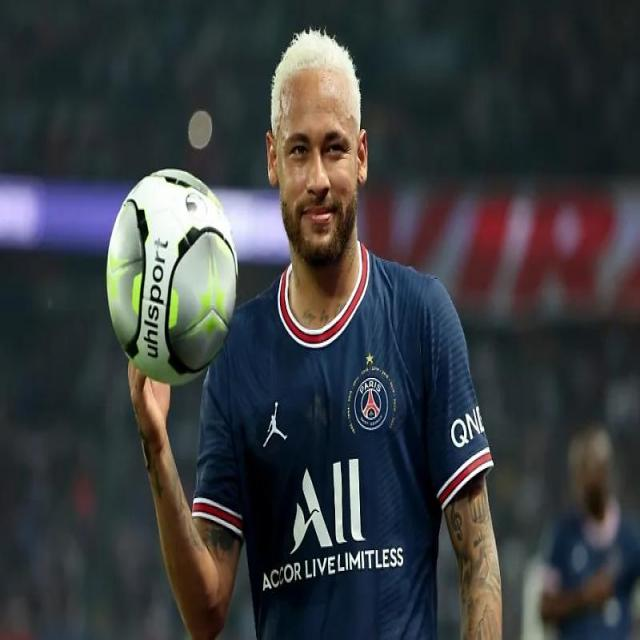neymar: (260, 28, 366, 264)
